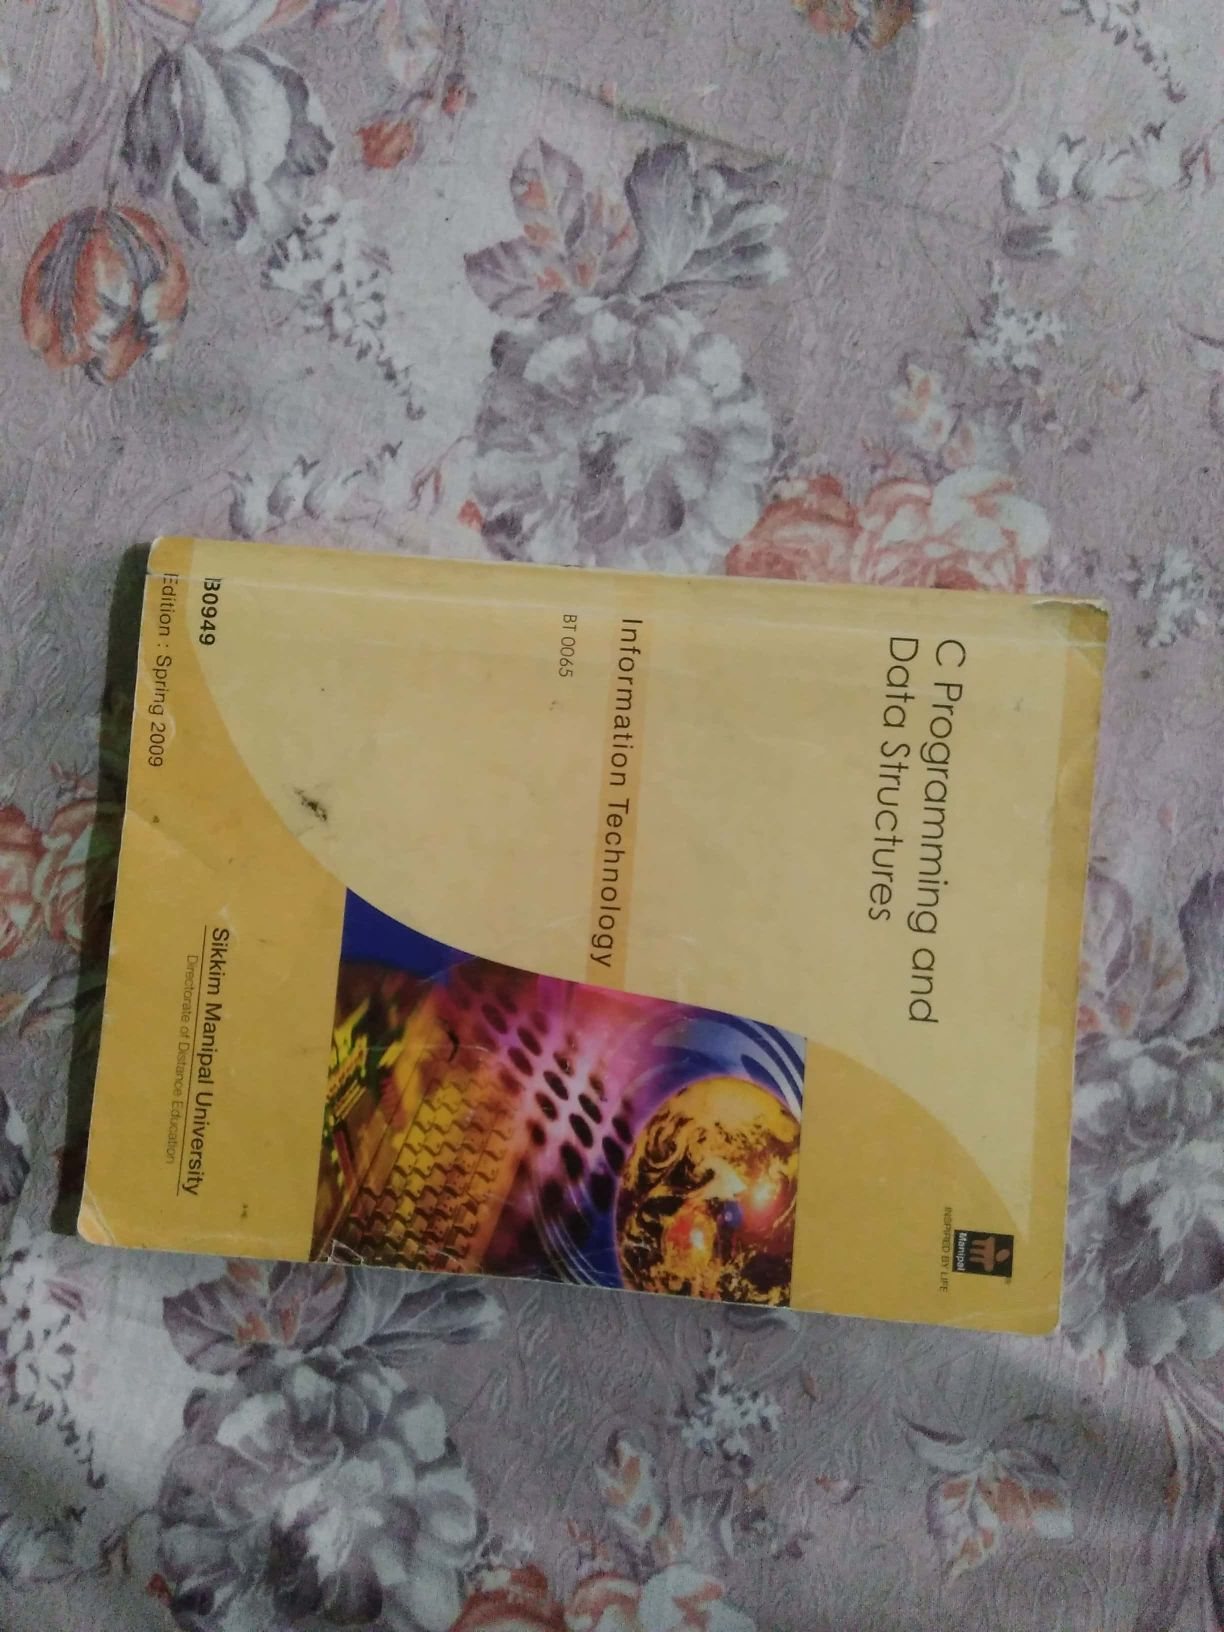clang: (73, 502, 1144, 1376)
